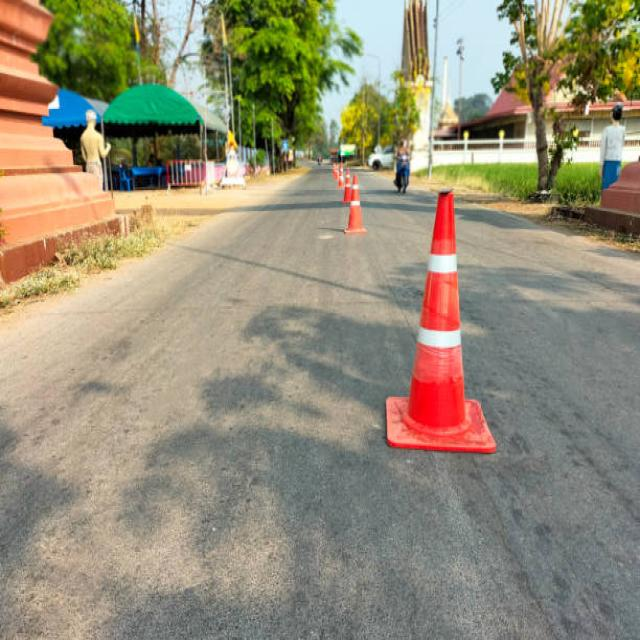Traffic Cone: (370, 173, 514, 468)
